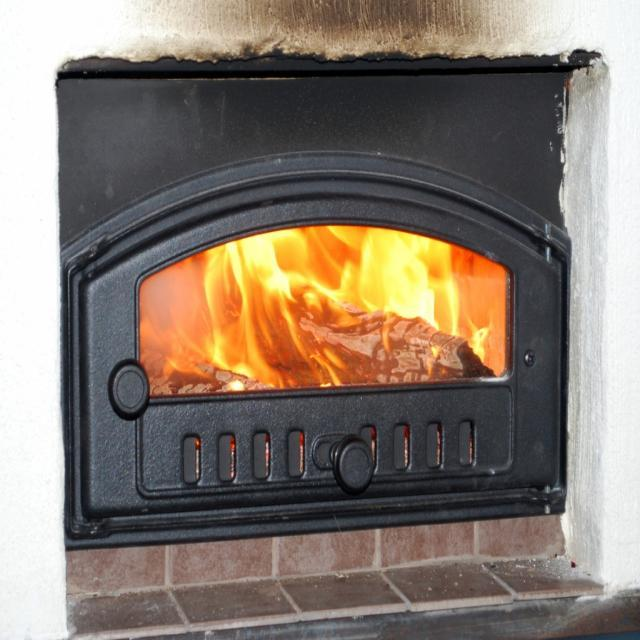Fire: (166, 226, 486, 387)
Smoke: (140, 261, 203, 346)
